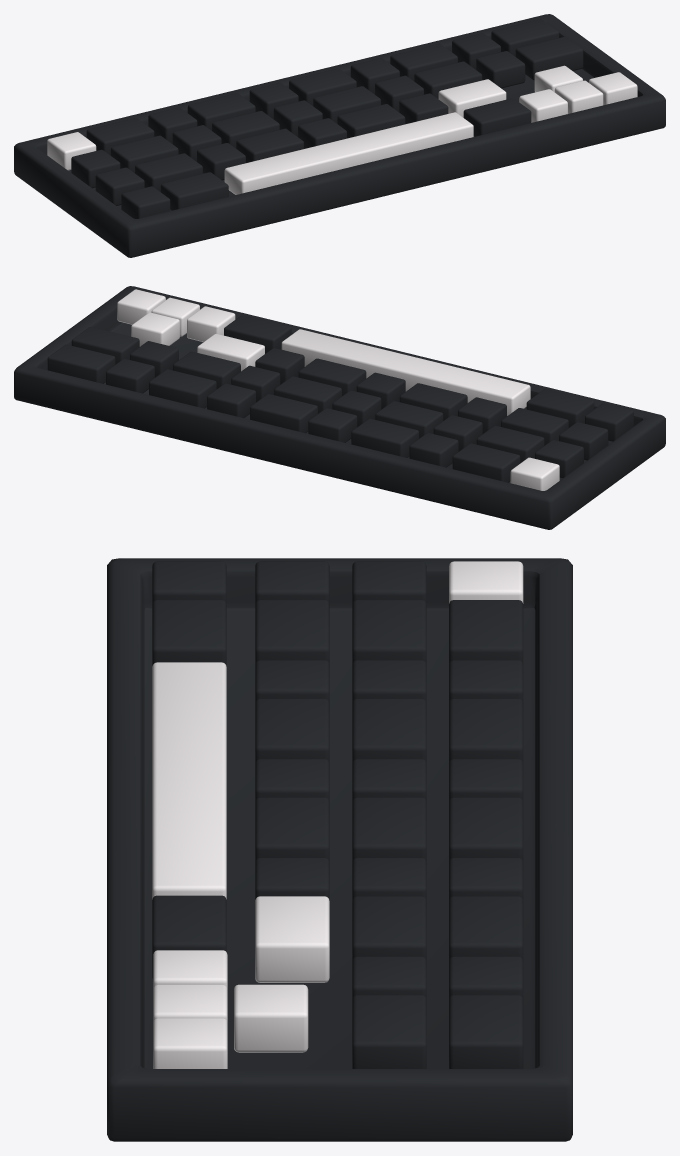
The model's file is keyboard.fbx.
3 renders of one model, top to bottom at view 1: azimuth 30°, elevation 25°; view 2: azimuth 150°, elevation 25°; view 3: azimuth 270°, elevation 25°, orthographic. The views are drawn at different scales.
Visible parts, largest first — view 1: Keyboard; view 2: Keyboard; view 3: Keyboard.
Boxes of the visible parts, <box> form: Keyboard: <box>14,14,665,257</box>; Keyboard: <box>14,286,665,529</box>; Keyboard: <box>107,558,572,1141</box>.
Size of the model in its own units: 162 by 11.49 by 60.61.
